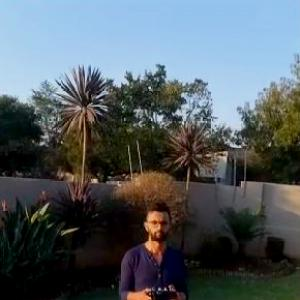follow: (114, 194, 191, 299)
